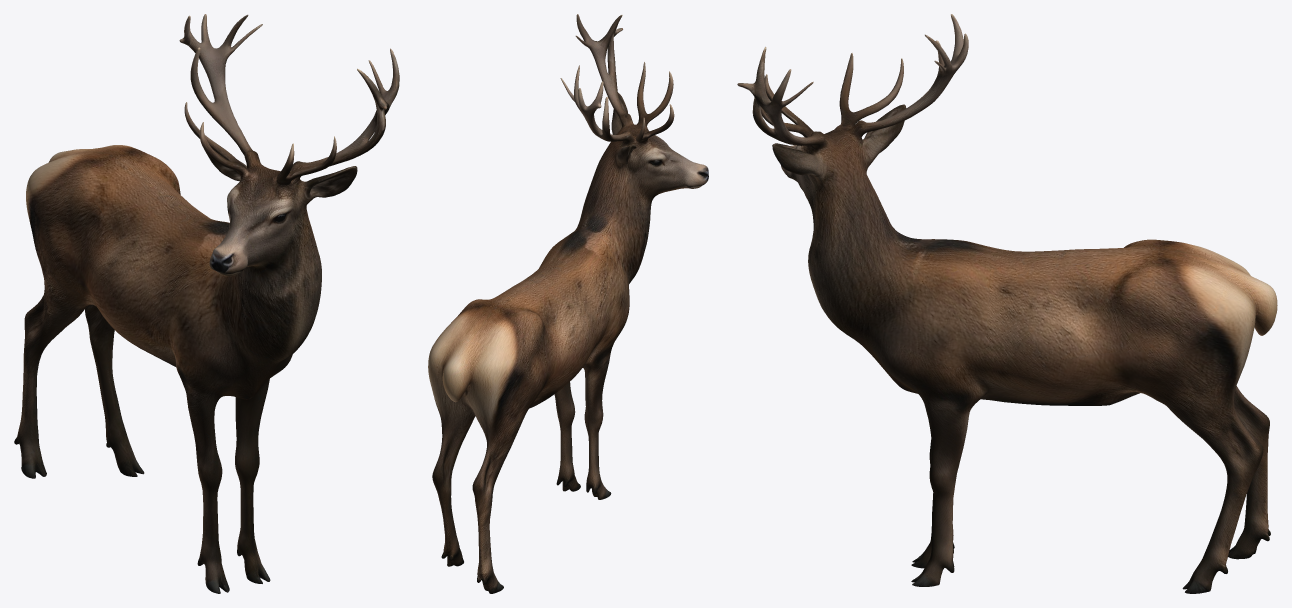
Rendered from deer__red-deer-stag.glb.
The picture shows the model from 3 angles, left to right: view 1: azimuth 30°, elevation 25°; view 2: azimuth 150°, elevation 25°; view 3: azimuth 270°, elevation 25°; orthographic projection. The views are drawn at different scales.
Size of the model in its own units: 0.6304 by 1.9 by 1.71.
1 material, 1 textured.
